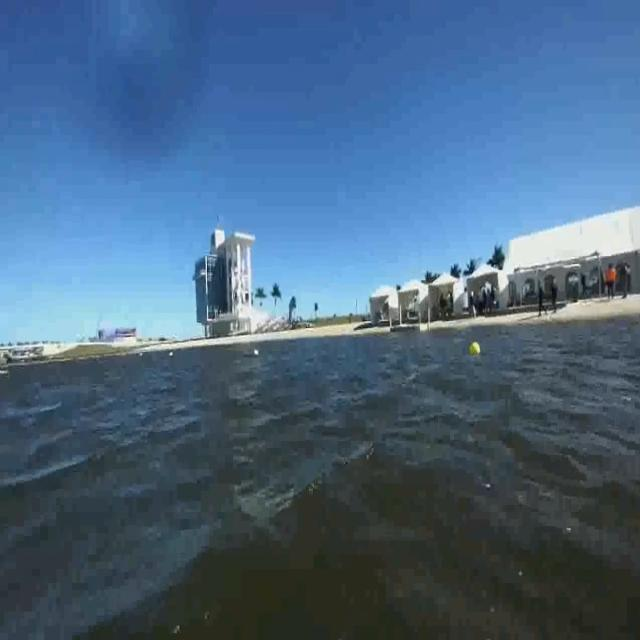yellow-buoy: (468, 340, 480, 359)
